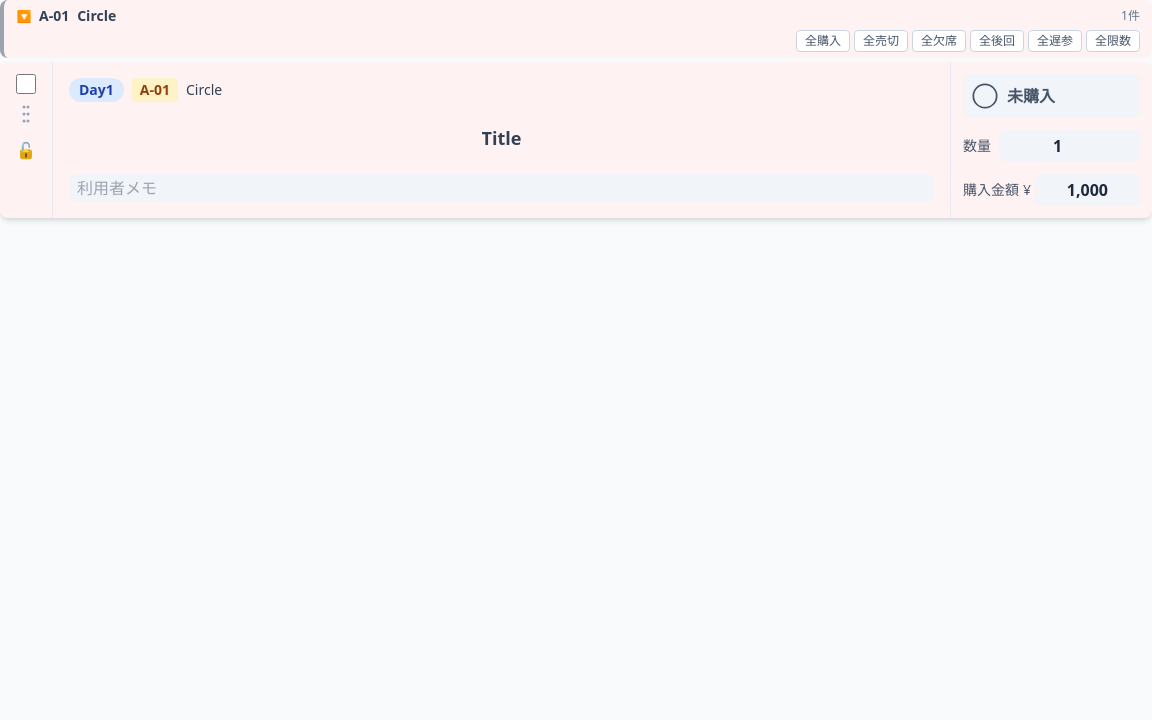
Test case: ShoppingList purchase status control mode › opens post-event distribution check dialog when an execute item becomes sold out
Click the button with aria-label "Current status" at coordinates (1052, 96), box [963, 74, 1140, 118]
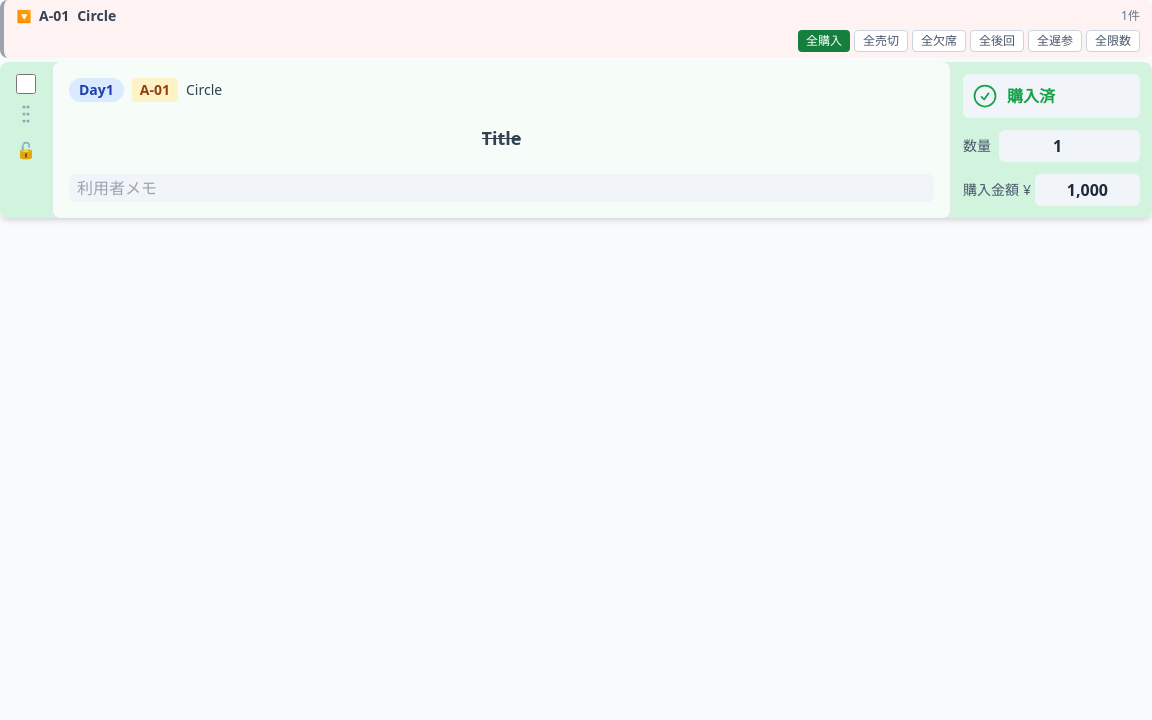
Click the button with aria-label "Current status" at coordinates (1052, 96), box [963, 74, 1140, 118]
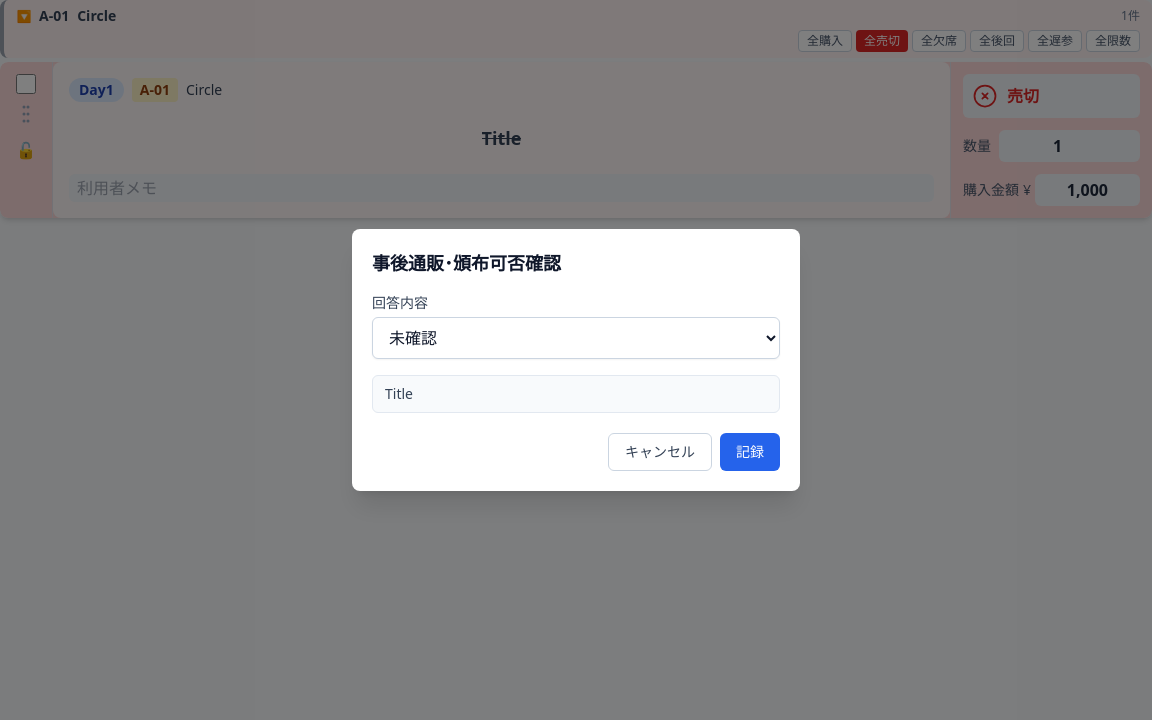
Expected: the dialog "事後通販･頒布可否確認" is shown, [352, 229, 800, 491]
Select "BOOTH有" in the dropdown labelled "回答内容" at coordinates (576, 338), box [372, 317, 780, 359]
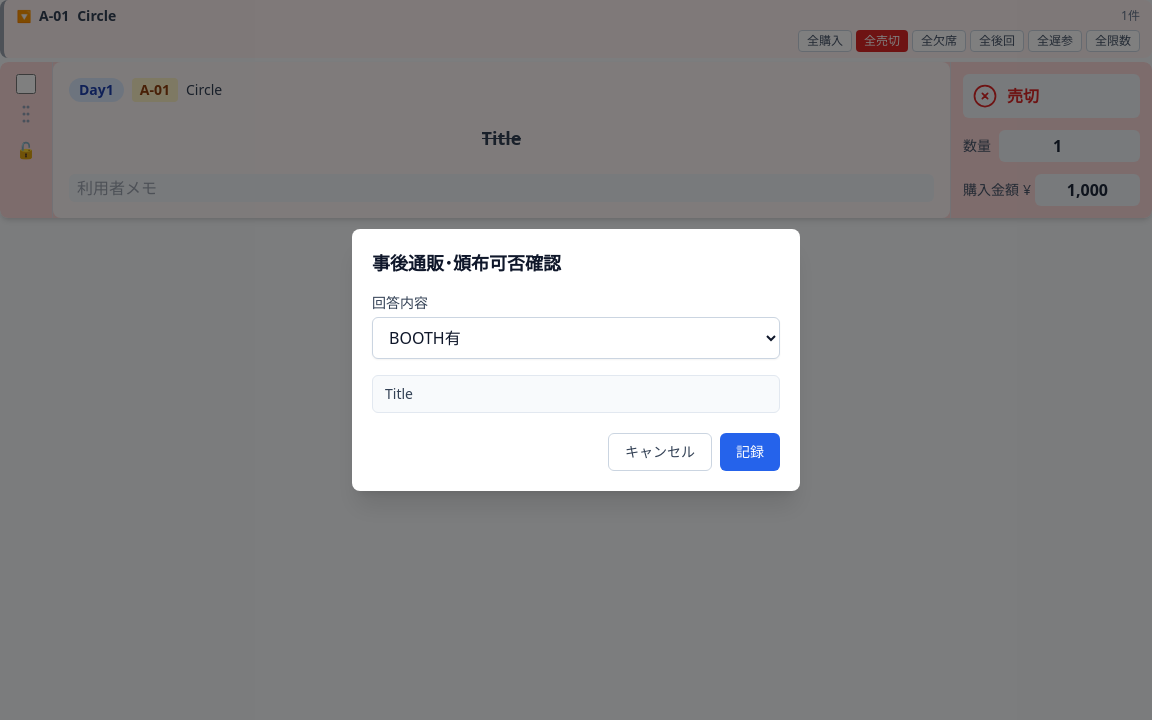
Click the button "記録" at coordinates (750, 452), box [720, 433, 780, 471]
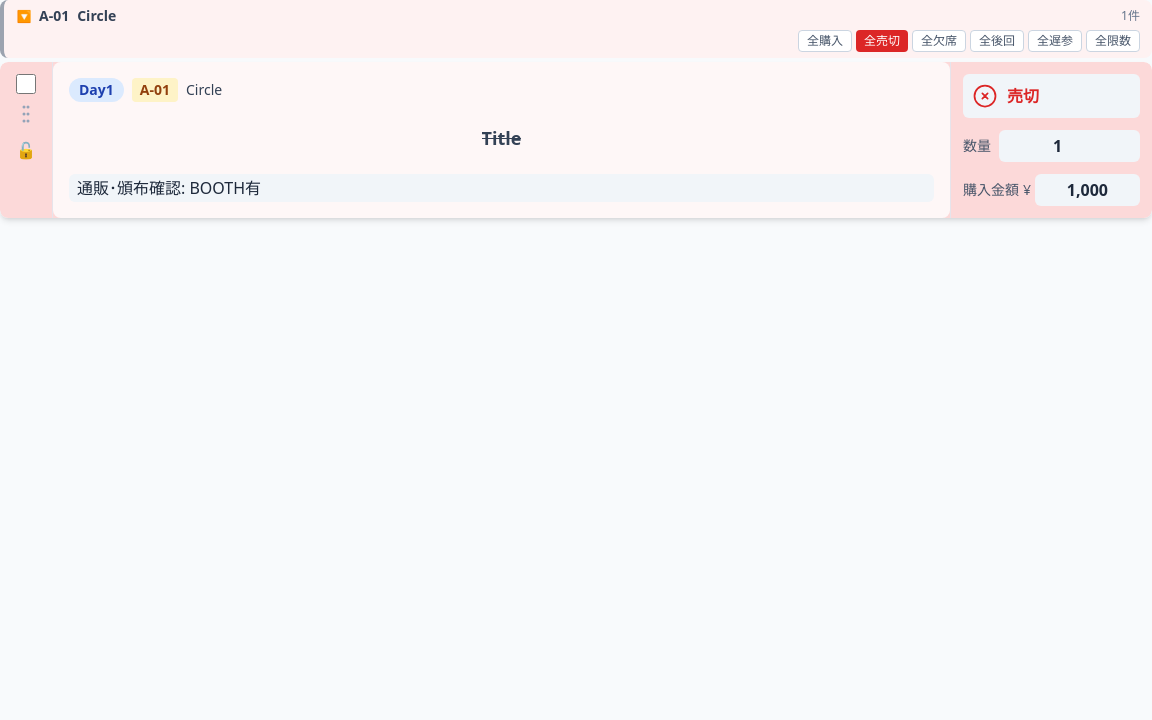
Expected: the field named "利用者メモ" holds "通販･頒布確認: BOOTH有", [69, 174, 934, 202]
